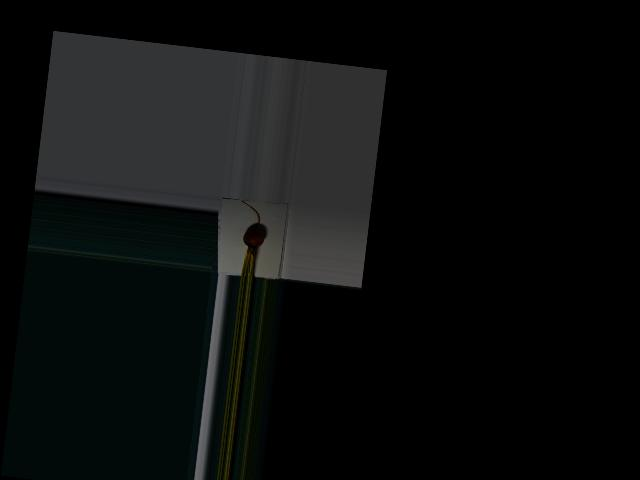beet: (233, 200, 268, 278)
